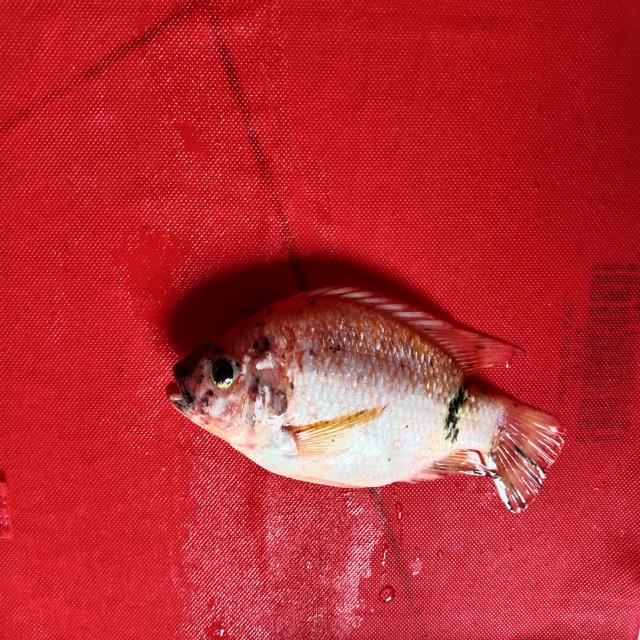ikan: (153, 262, 582, 526)
